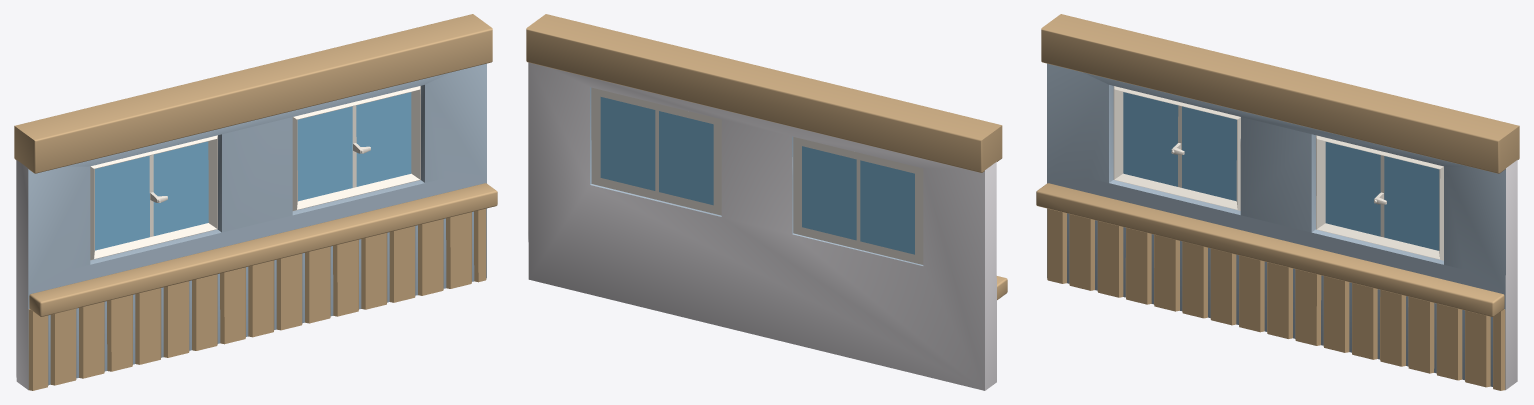
File: pencereli_uzun_duvar_.fbx
3 renders of one model, left to right at view 1: azimuth 30°, elevation 25°; view 2: azimuth 150°, elevation 25°; view 3: azimuth 330°, elevation 25°, orthographic.
Parts seen in each view (by area): view 1: Cube.093, Cube.007, Cube.094, Cube.097, Cube.002, Cube.004, Cube.003, Cube.001, Cube.101, Cube.100; view 2: Cube.093, Cube.094, Cube.001, Cube.003, Cube.004, Cube.002, Cube.100, Cube.101; view 3: Cube.093, Cube.007, Cube.094, Cube.097, Cube.001, Cube.002, Cube.003, Cube.004, Cube.101, Cube.100.
Part boxes in pixels (bbox=[...]): Cube.093: bbox=[16, 63, 486, 389]; Cube.007: bbox=[28, 208, 486, 390]; Cube.094: bbox=[14, 14, 492, 173]; Cube.097: bbox=[29, 183, 497, 316]; Cube.002: bbox=[297, 106, 352, 201]; Cube.004: bbox=[95, 155, 149, 250]; Cube.003: bbox=[153, 141, 208, 235]; Cube.001: bbox=[356, 92, 411, 186]; Cube.101: bbox=[292, 86, 420, 210]; Cube.100: bbox=[90, 135, 217, 260]; Cube.093: bbox=[528, 62, 996, 390]; Cube.094: bbox=[526, 14, 1002, 172]; Cube.001: bbox=[600, 97, 655, 190]; Cube.003: bbox=[802, 146, 856, 240]; Cube.004: bbox=[860, 160, 914, 254]; Cube.002: bbox=[659, 111, 713, 205]; Cube.100: bbox=[793, 137, 923, 264]; Cube.101: bbox=[591, 87, 721, 215]; Cube.093: bbox=[1047, 63, 1517, 390]; Cube.007: bbox=[1047, 208, 1505, 390]; Cube.094: bbox=[1041, 14, 1519, 173]; Cube.097: bbox=[1036, 183, 1504, 316]; Cube.001: bbox=[1384, 156, 1439, 250]; Cube.002: bbox=[1325, 142, 1380, 236]; Cube.003: bbox=[1182, 106, 1236, 201]; Cube.004: bbox=[1123, 92, 1178, 186]; Cube.101: bbox=[1316, 135, 1443, 260]; Cube.100: bbox=[1113, 86, 1240, 210].
Bounding box in the file's own units: 1727 × 914 × 174.
